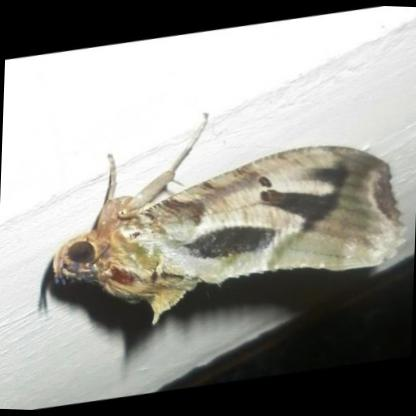fruit sucking moth: (45, 114, 406, 323)
